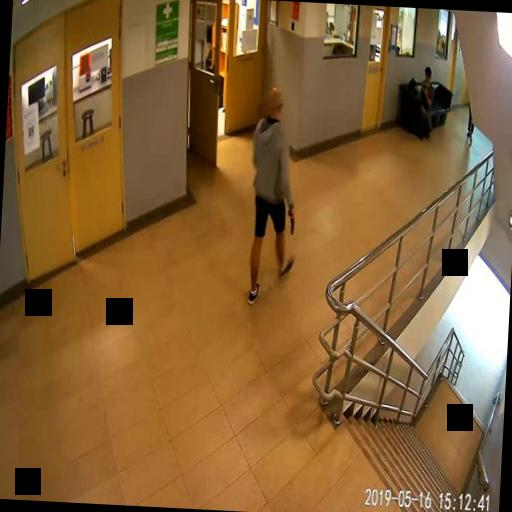Handgun: (283, 204, 298, 236)
